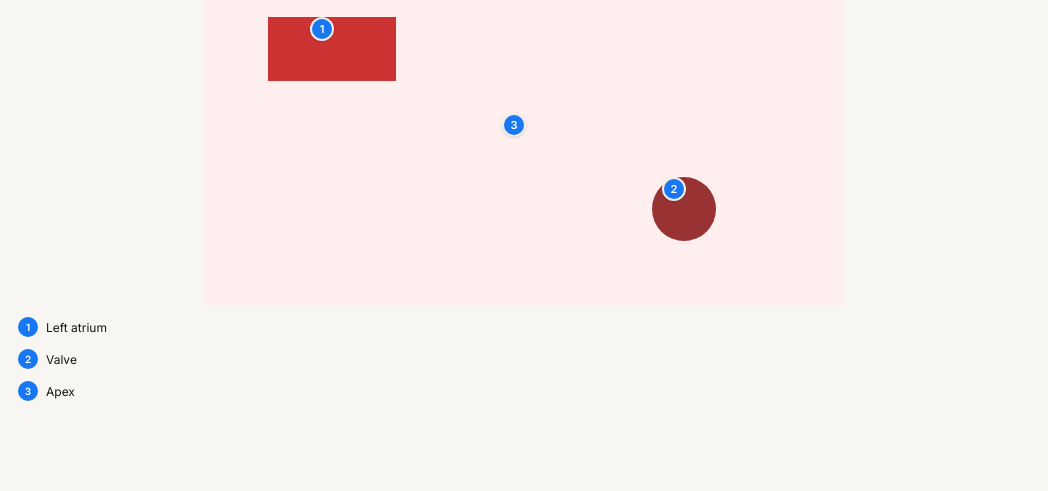
Test: illustration notes: legend › lists every kept note in pin order, and a legend click opens it
Click the button "3 Apex". click: x=28, y=391
box: [12,377,1036,405]
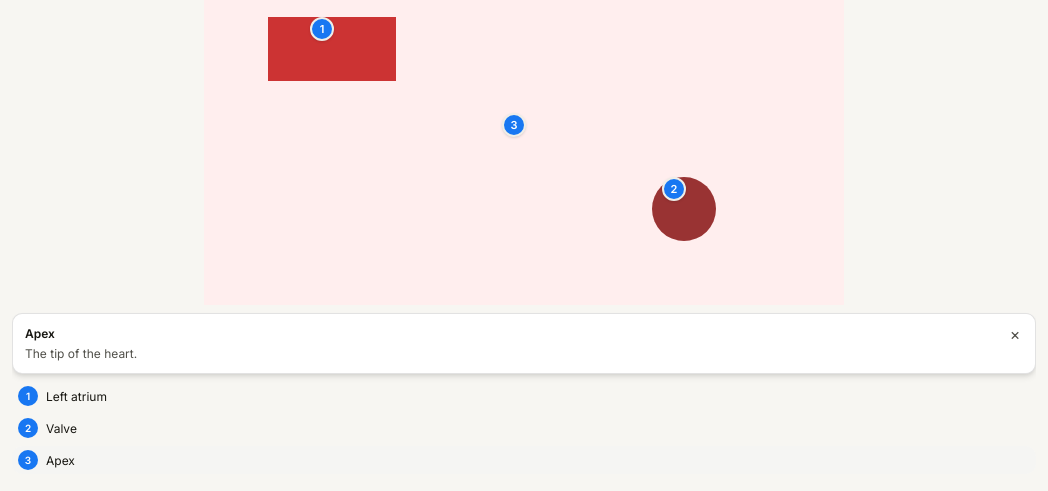
Now the element showing "Apex × The tip of the heart." is shown, box [12,313,1036,374]
Now the button "3 Apex" is expanded, box [12,446,1036,474]
